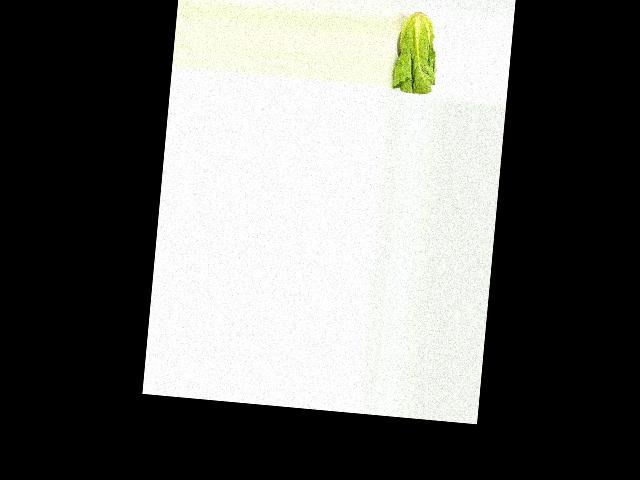lettuce: (390, 9, 443, 95)
